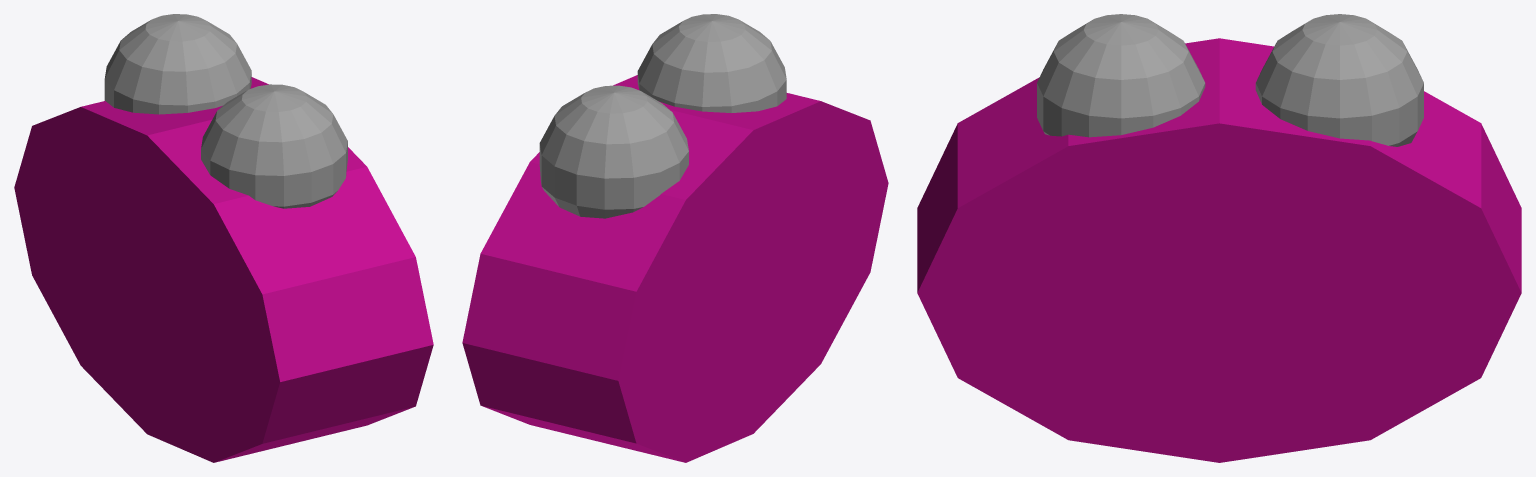
File: foreo1.glb
3 renders of one model, left to right at view 1: azimuth 30°, elevation 25°; view 2: azimuth 150°, elevation 25°; view 3: azimuth 270°, elevation 25°, orthographic. The views are drawn at different scales.
Size of the model in its own units: 0.175 by 0.3857 by 0.525.
